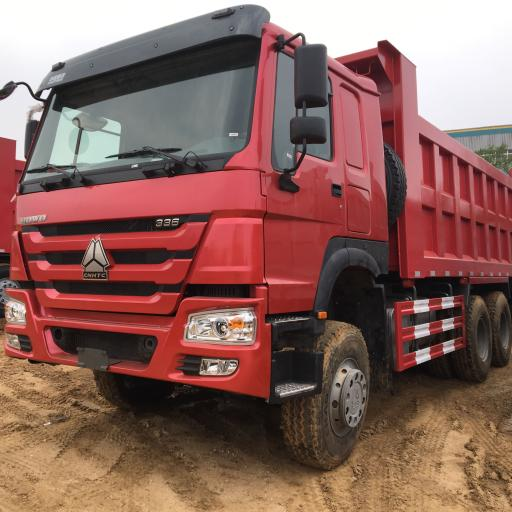truck: (0, 4, 512, 473), (0, 137, 25, 318)
